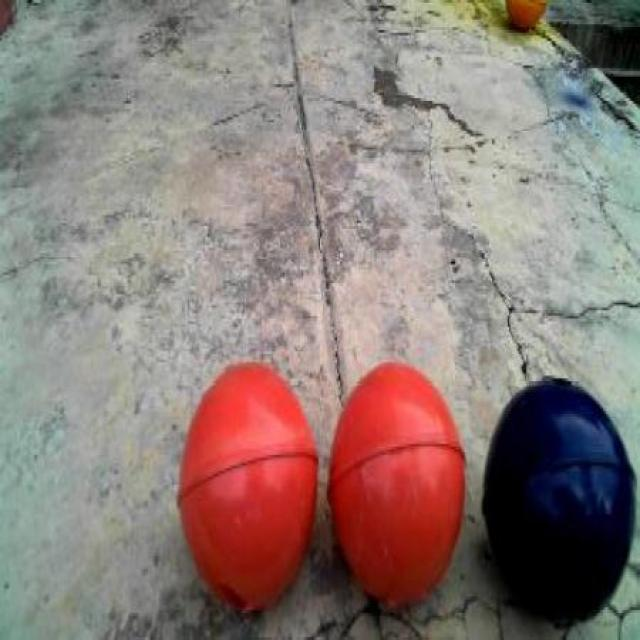buoy: (478, 360, 638, 630), (174, 354, 321, 622), (323, 348, 468, 616)
